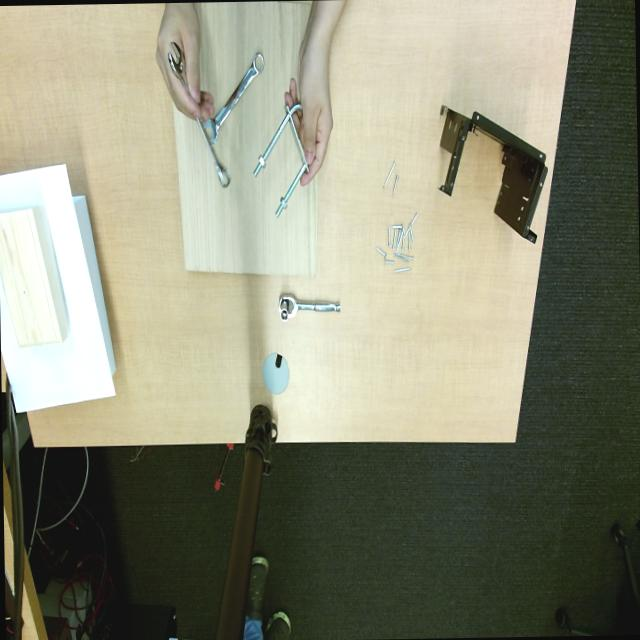wrench: (168, 41, 230, 187), (205, 52, 263, 144), (278, 296, 340, 321)
